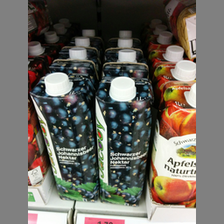juice: (29, 68, 98, 201), (96, 74, 154, 206)
